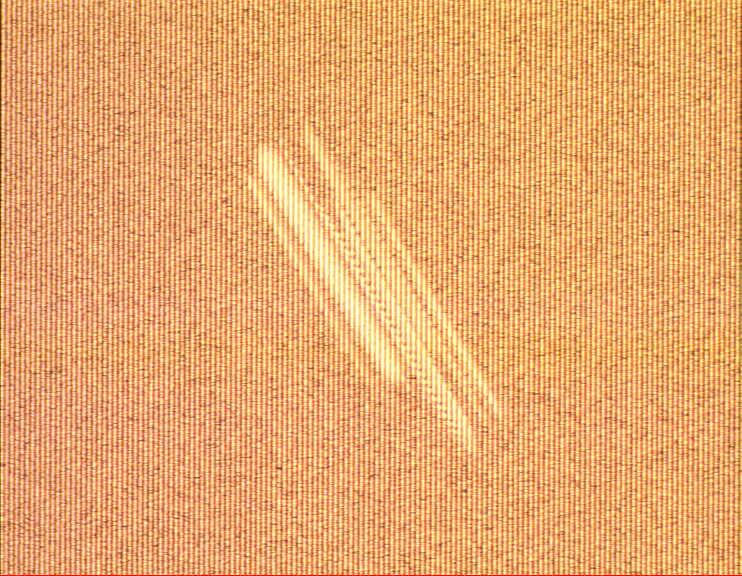SCRATCH: (240, 112, 531, 473)
